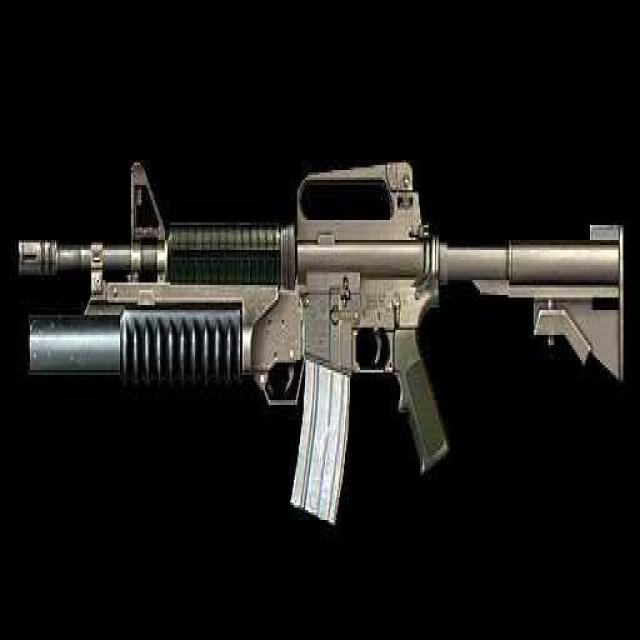Rifle: (14, 138, 631, 548)
